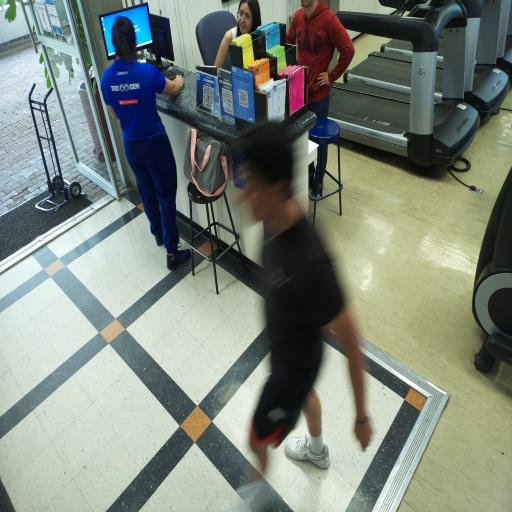person: (242, 123, 371, 473), (101, 17, 190, 269), (287, 0, 354, 118), (215, 0, 261, 67)
